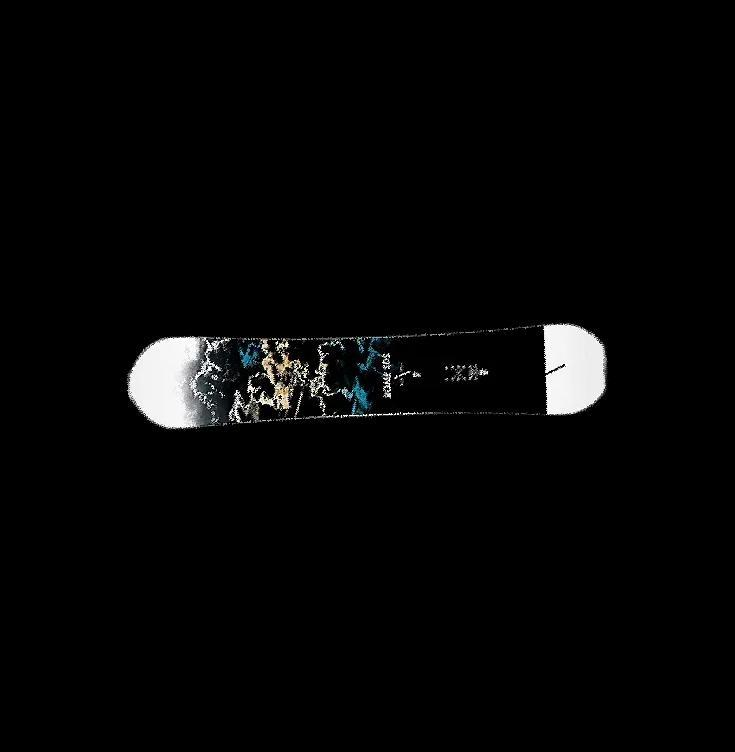Snowboard: (126, 321, 608, 429)
